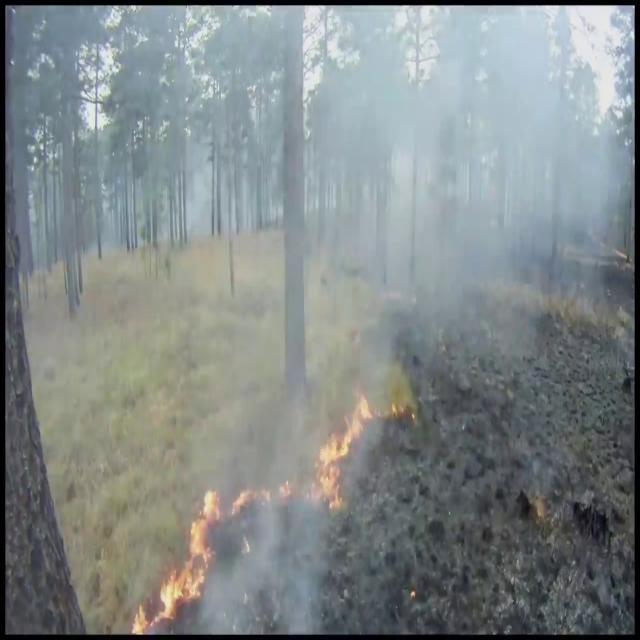Fire: (140, 480, 222, 628), (311, 384, 374, 514)
Smoke: (65, 6, 625, 612)
